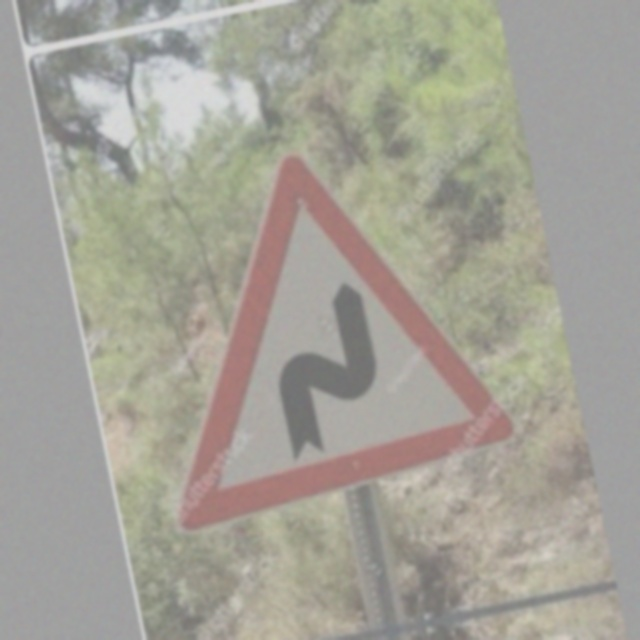Right_Reverse_Bend: (109, 120, 517, 513)
